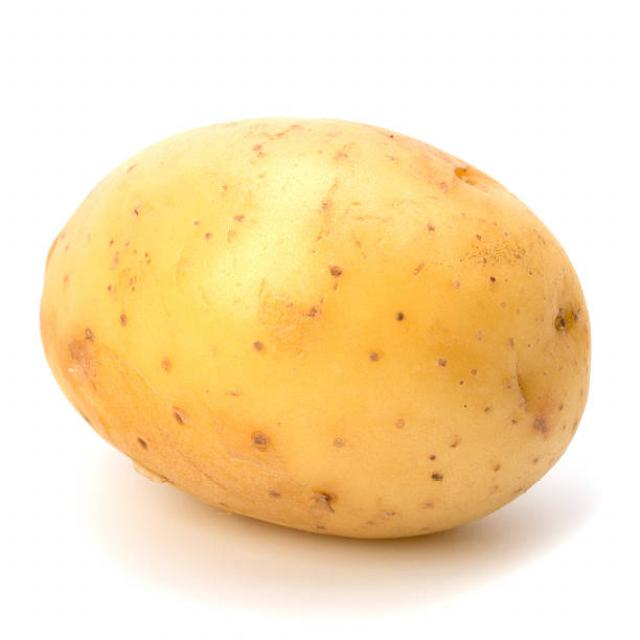Potato: (36, 108, 598, 546)
